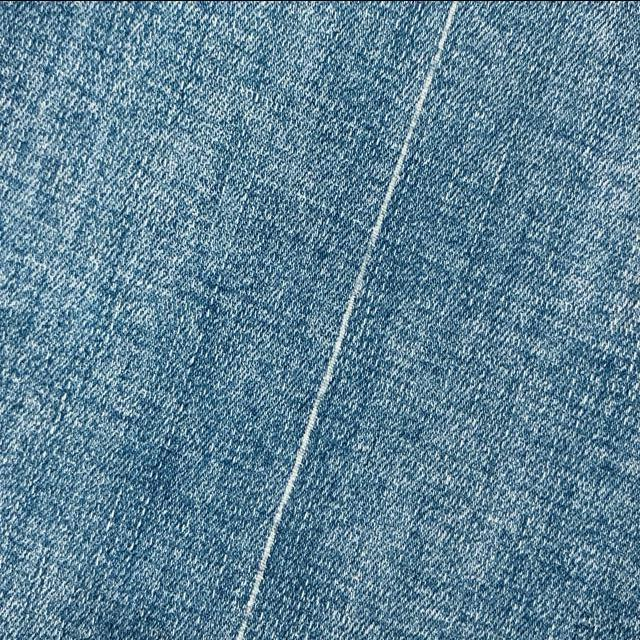Line: (236, 0, 460, 640)
